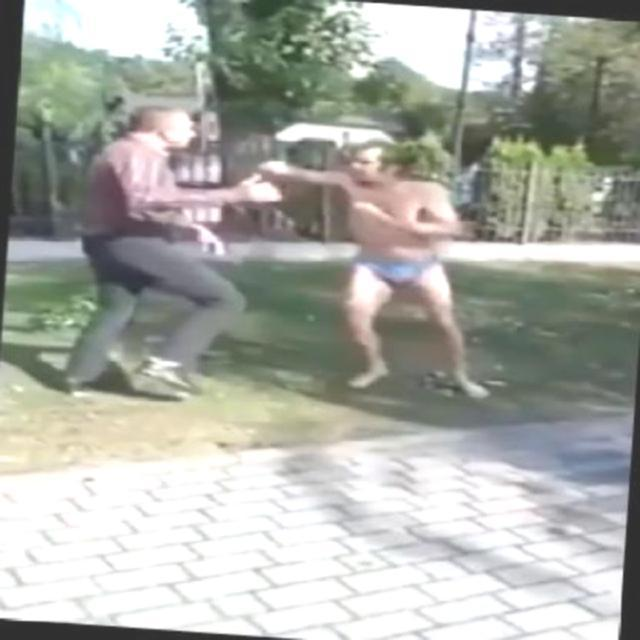fight: (62, 101, 482, 404)
